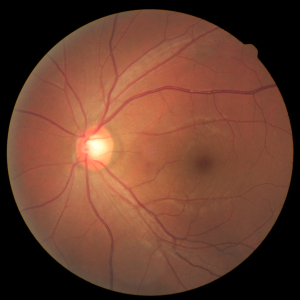glaucoma: (42, 110, 238, 229)
